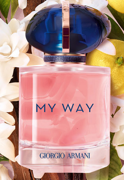armani_my_way_floral: (16, 6, 113, 171)
